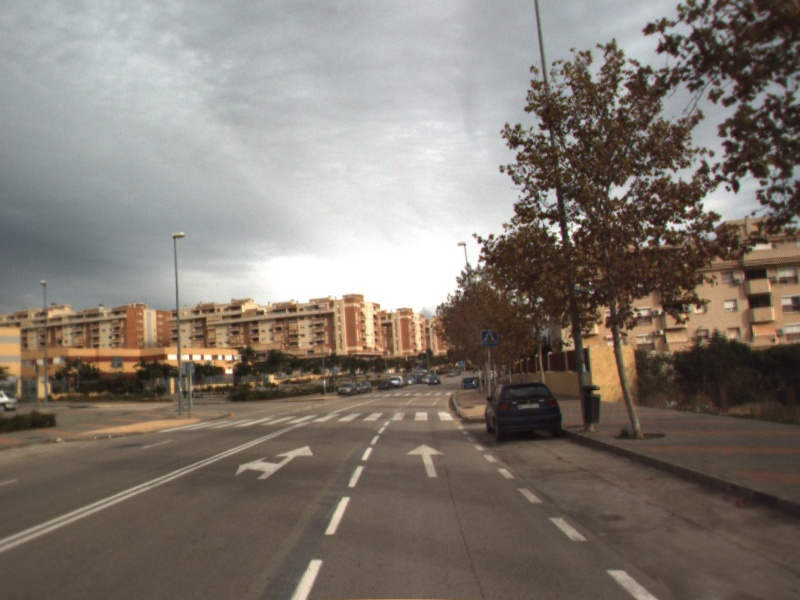STRAIGHT: (404, 442, 447, 480)
STRAIGHT_LEFT: (233, 443, 316, 481)
